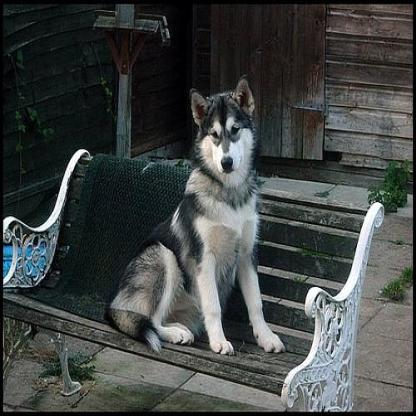malamute: (105, 75, 287, 356)
